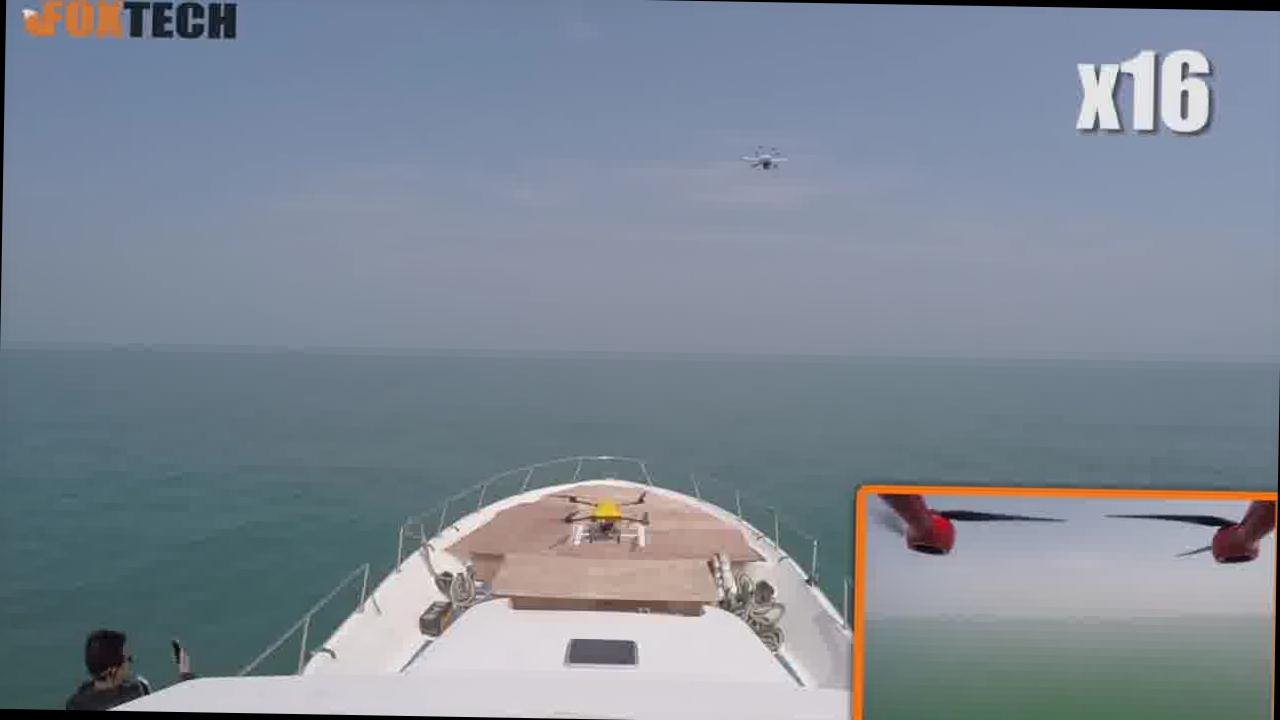drone: (539, 476, 669, 550), (737, 138, 789, 170)
